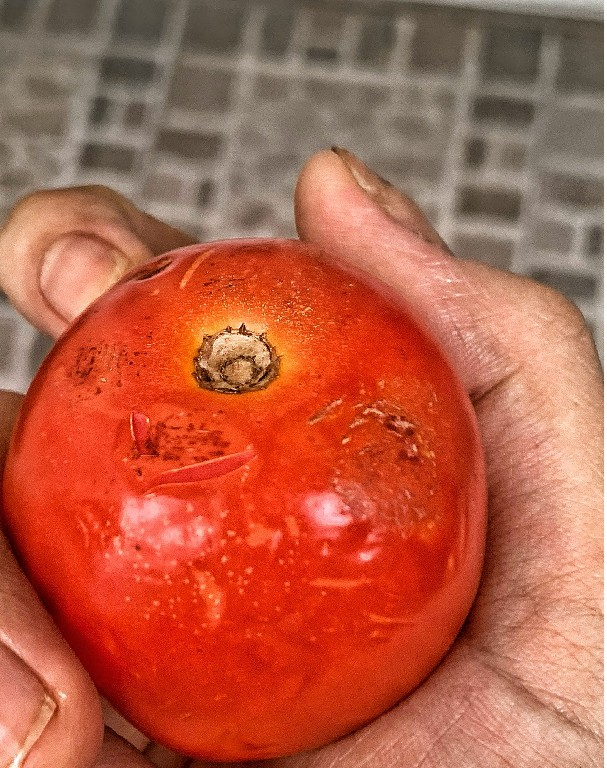NG: (4, 233, 486, 766)
